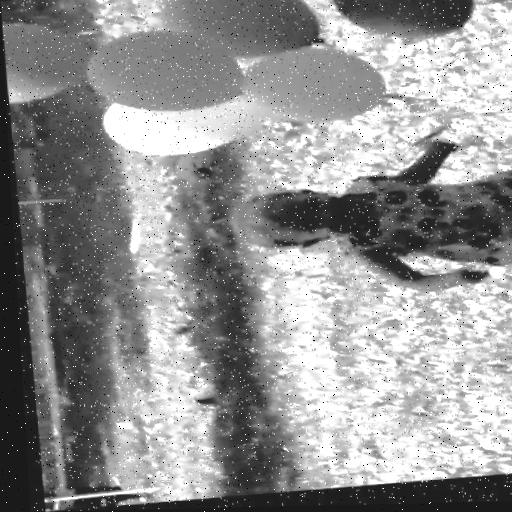balloon: (85, 22, 245, 116), (242, 47, 391, 128), (103, 92, 262, 159), (160, 0, 325, 62), (2, 16, 93, 100), (336, 0, 476, 48)
